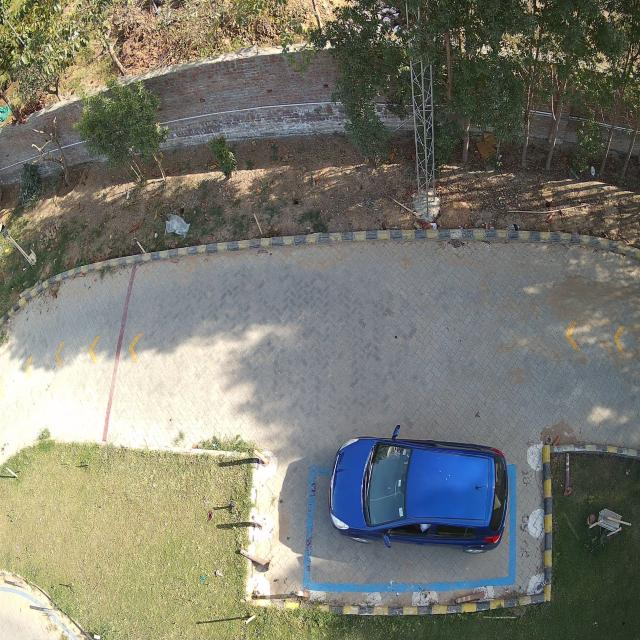car: (329, 432, 510, 553)
